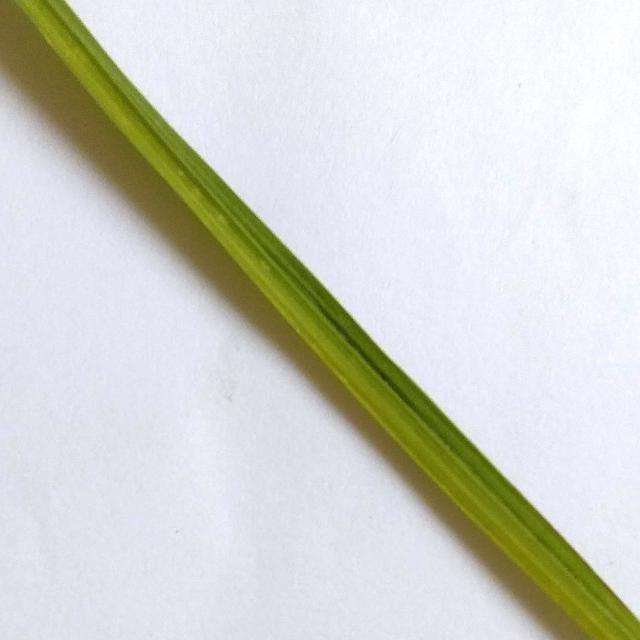Rice_Healthy: (17, 0, 640, 640)
